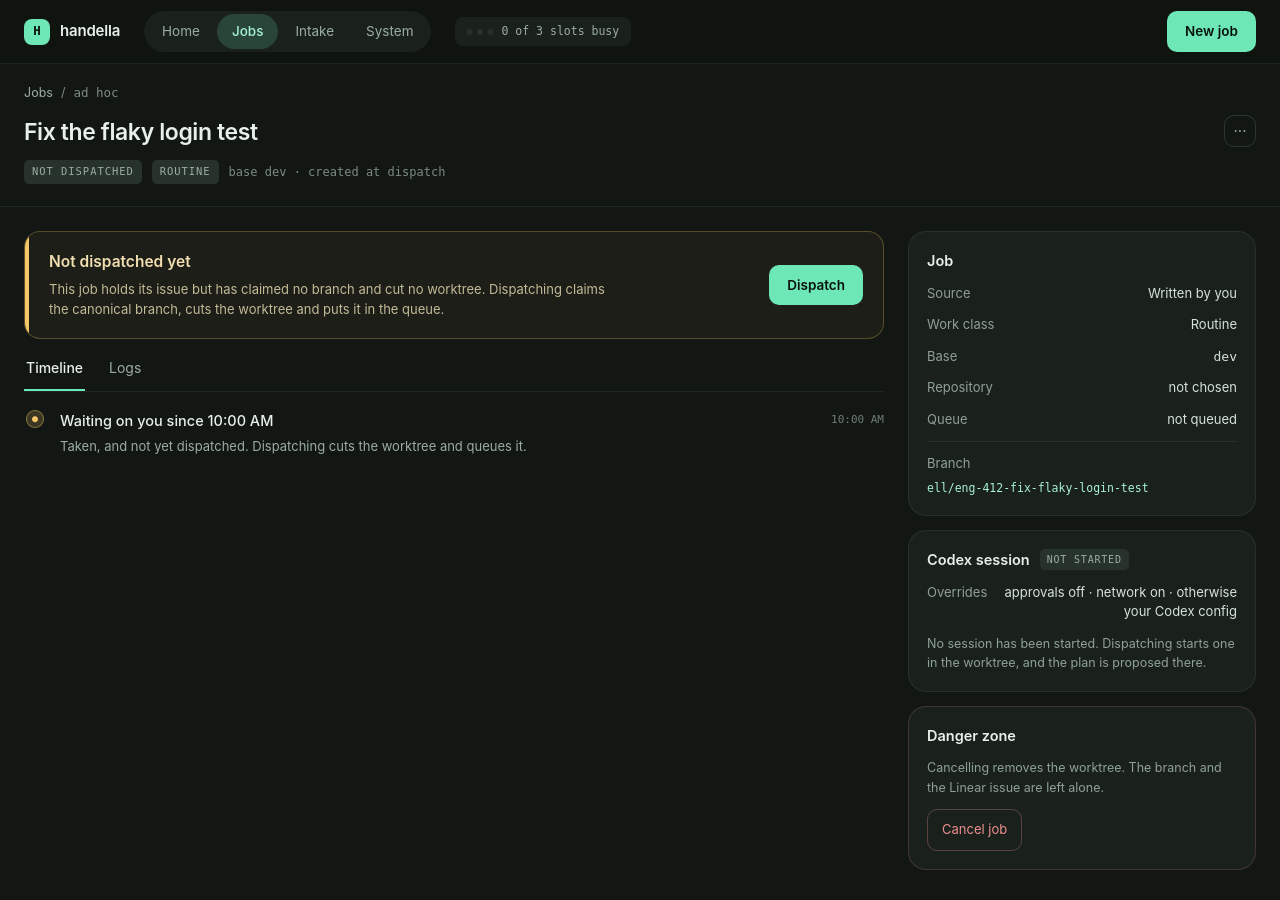
it: the job detail page › offers only the moves the state machine allows
Click the button named "More actions for this job" at (1240, 131), box [1224, 115, 1256, 147]
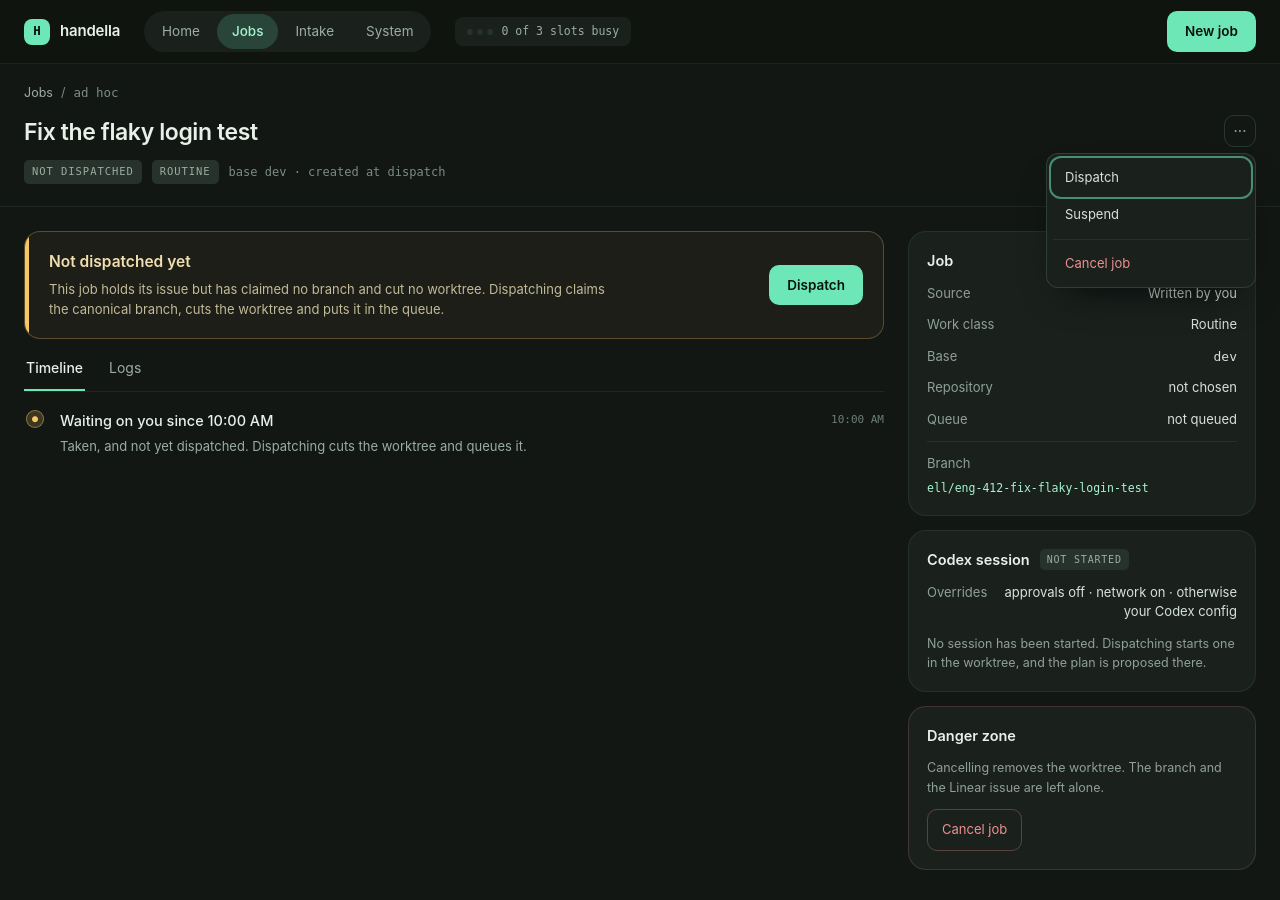
Result: the menu item "Cancel job" is shown at [1053, 246, 1249, 281]
